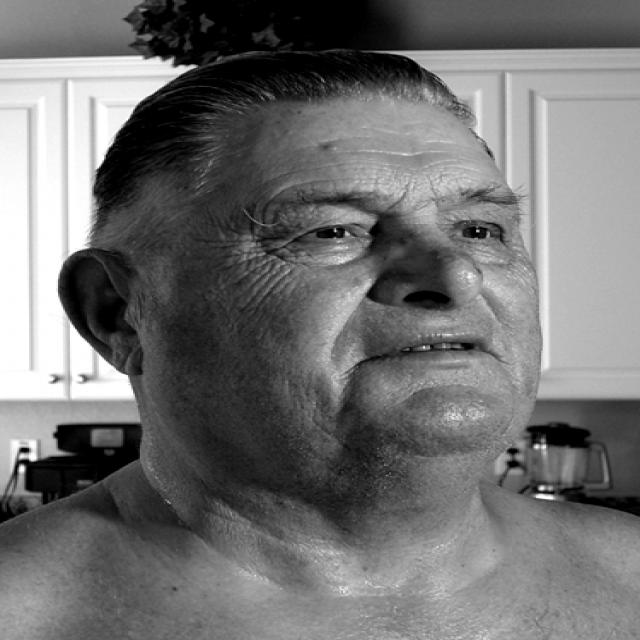earlobe: (56, 249, 146, 377)
